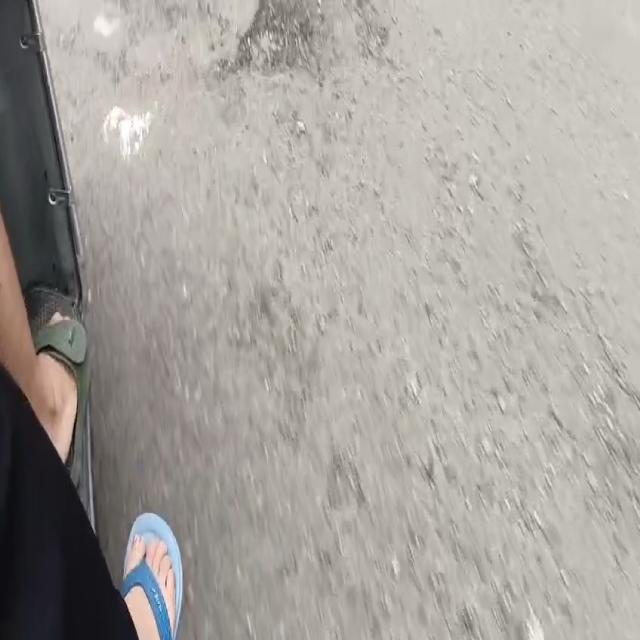road-pothole: (220, 0, 316, 76)
